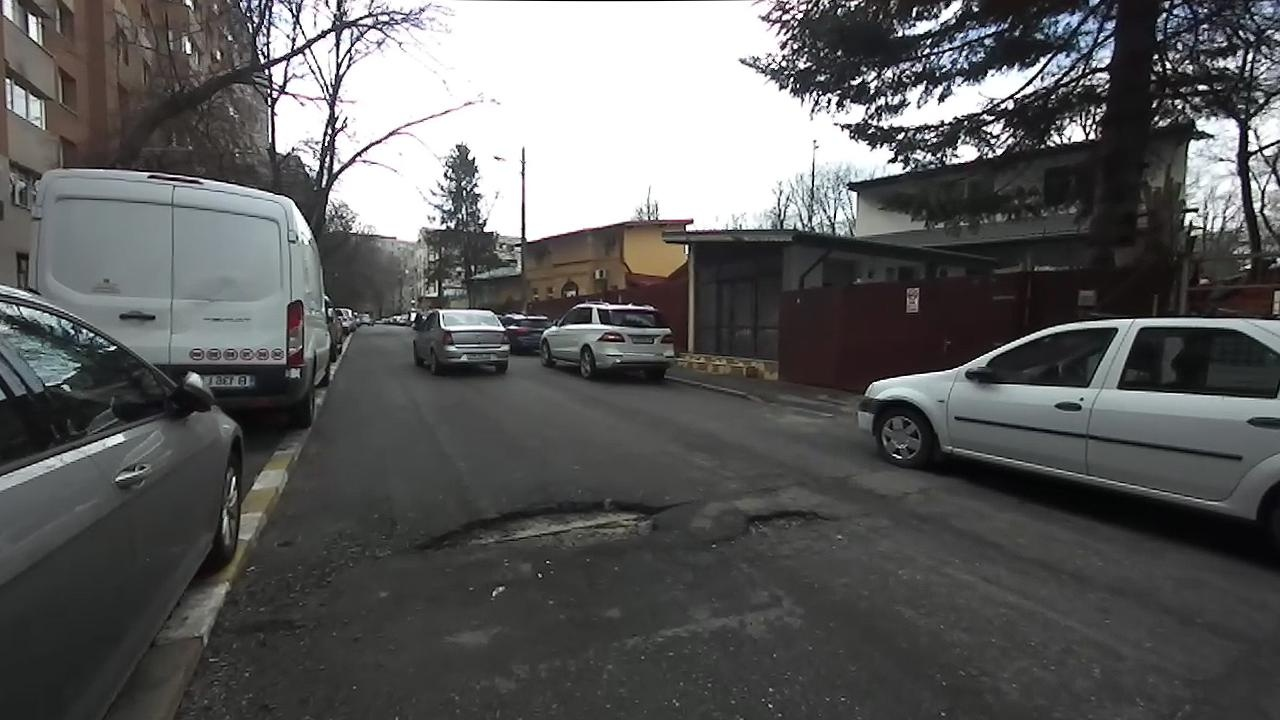pothole: (405, 497, 690, 565), (709, 504, 842, 548)
